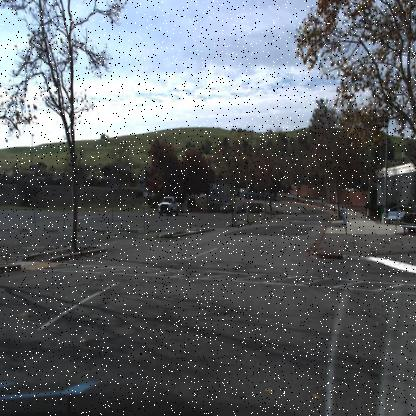car: (156, 194, 184, 220)
